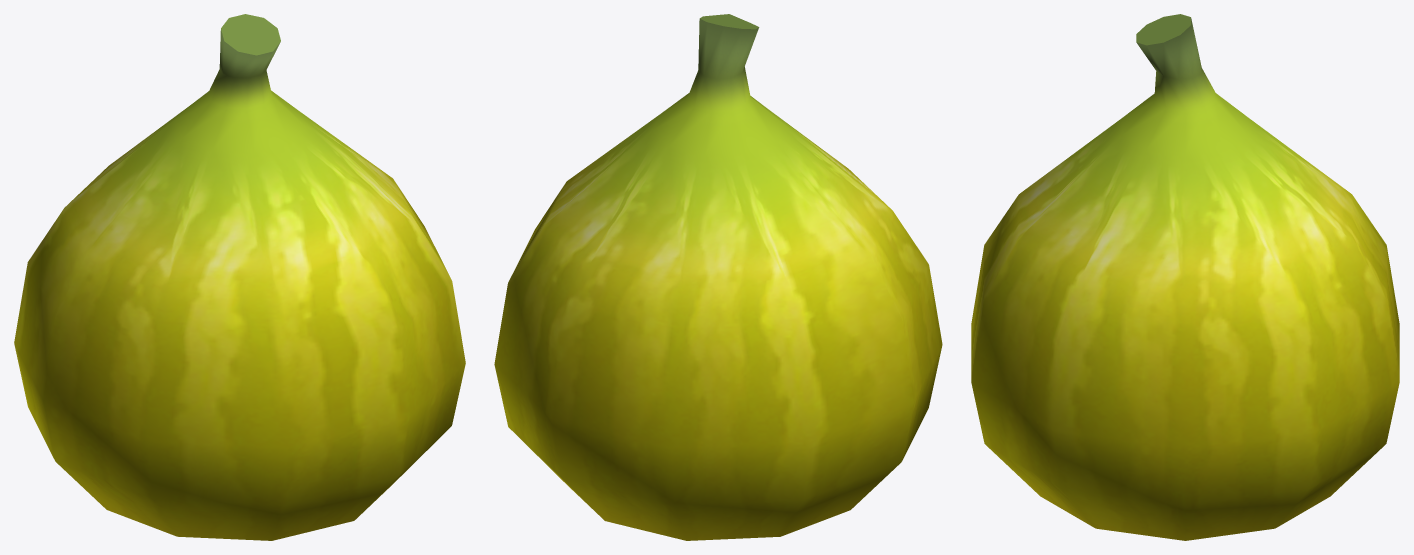
The model's file is Fig_Yellow.fbx.
The picture shows the model from 3 angles, left to right: view 1: azimuth 30°, elevation 25°; view 2: azimuth 150°, elevation 25°; view 3: azimuth 270°, elevation 25°; orthographic projection.
Parts seen in each view (by area): view 1: Fig_Yellow; view 2: Fig_Yellow; view 3: Fig_Yellow.
Boxes of the visible parts, x1,y1,x2,y2 form: Fig_Yellow: (14,14,465,540); Fig_Yellow: (494,14,942,540); Fig_Yellow: (971,14,1399,540).
Size of the model in its own units: 24.09 by 29.06 by 22.92.
Materials: 1 (1 with a texture image).
